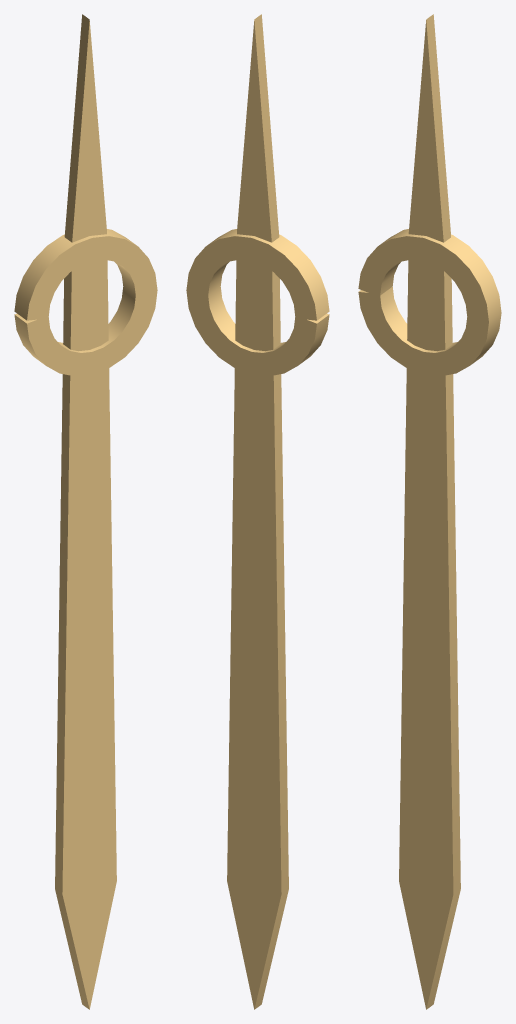
The model's file is HubGate_MinuteHand.gltf.
3 views of the same model, side by side, from view 1: azimuth 30°, elevation 25°; view 2: azimuth 150°, elevation 25°; view 3: azimuth 330°, elevation 25° (orthographic).
Visible parts, largest first — view 1: HubGate_MinuteHand; view 2: HubGate_MinuteHand; view 3: HubGate_MinuteHand.
Part boxes in pixels (x1=…): HubGate_MinuteHand: x1=14, y1=14, x2=157, y2=1009; HubGate_MinuteHand: x1=186, y1=14, x2=329, y2=1009; HubGate_MinuteHand: x1=358, y1=14, x2=501, y2=1009.
Size of the model in its own units: 1.01 by 7.3 by 0.168.
